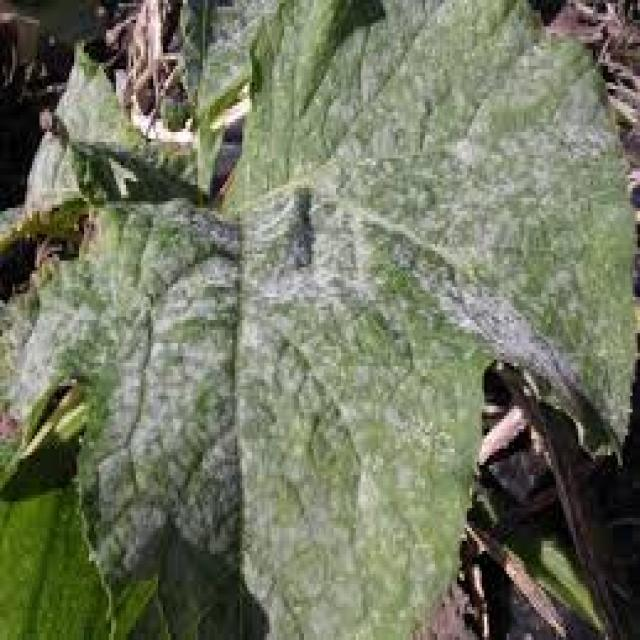powdery-mildew: (259, 86, 586, 370), (80, 268, 248, 506)
